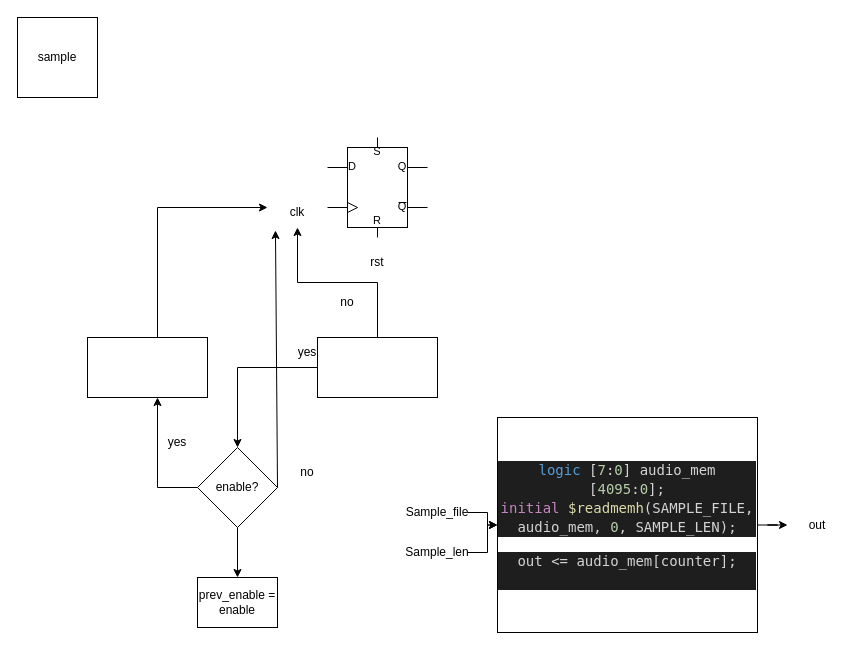
Some shapes in this 865 by 650 pixel diagram are drawn without their labels. The centre of each missing label's shape, as x and y in pixels:
counter = counter + 1: point 147,367
prev_enable = 1: point 377,367
